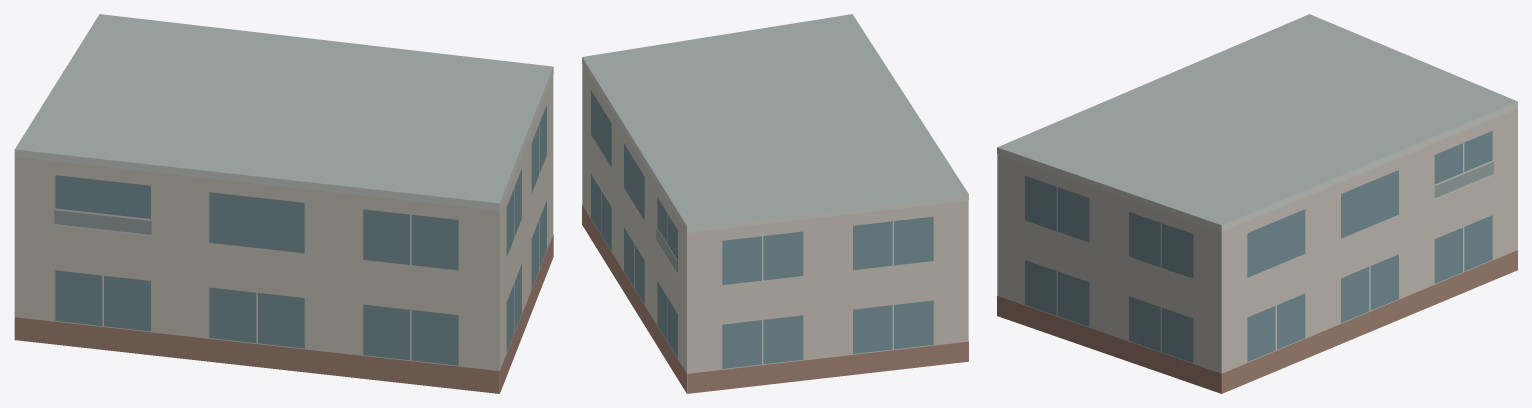
File: survey-upis-32770203.glb
3 views of the same model, side by side, from view 1: azimuth 30°, elevation 25°; view 2: azimuth 150°, elevation 25°; view 3: azimuth 270°, elevation 25° (orthographic). The views are drawn at different scales.
Visible parts, largest first — view 1: survey-upis-32770203.tmp; view 2: survey-upis-32770203.tmp; view 3: survey-upis-32770203.tmp.
Part boxes in pixels (x1=…): survey-upis-32770203.tmp: x1=14, y1=14, x2=553, y2=393; survey-upis-32770203.tmp: x1=582, y1=14, x2=968, y2=393; survey-upis-32770203.tmp: x1=997, y1=14, x2=1517, y2=393.
Size of the model in its own units: 16.4 by 6.1 by 17.08.
